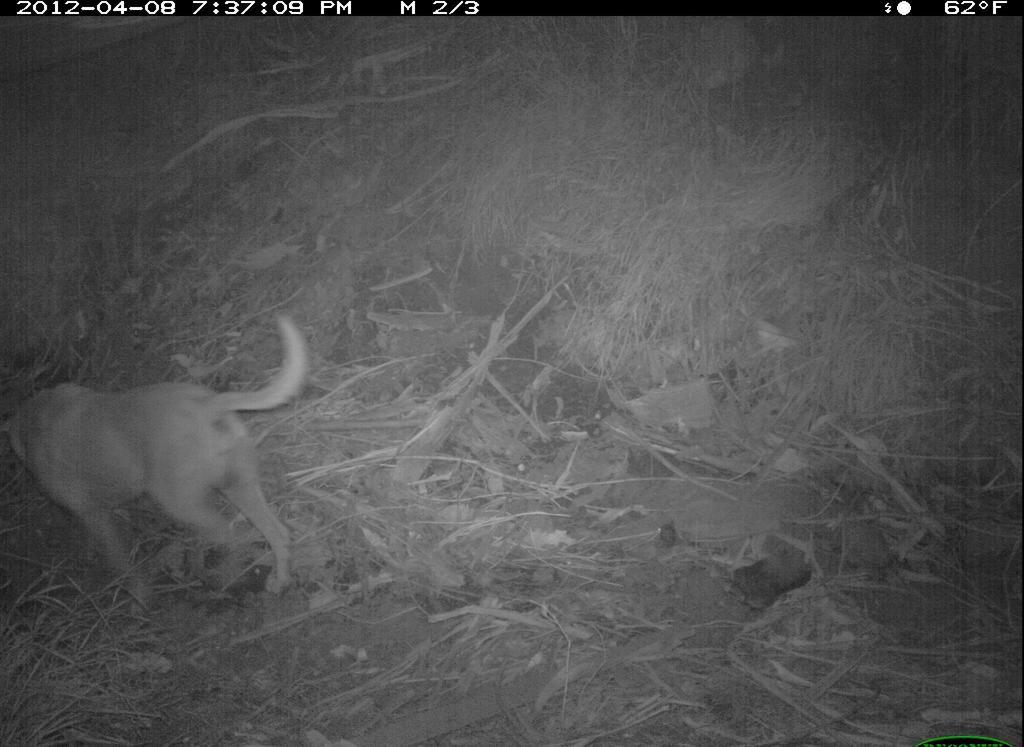dog: (2, 304, 314, 624)
